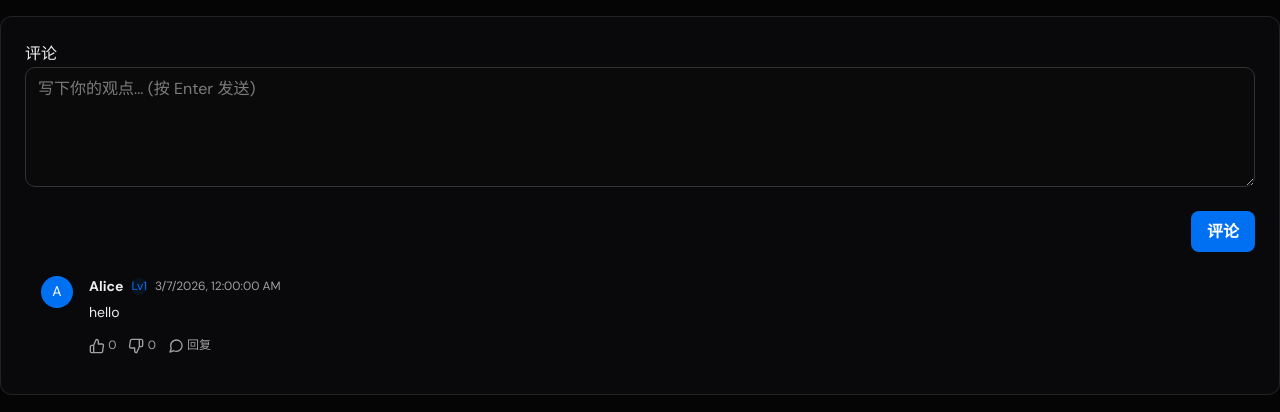
CommentSection › prefixes the textarea when replying to a comment
The image size is (1280, 412).
Click the button "回复". click: (189, 346)
box: [168,337,211,354]
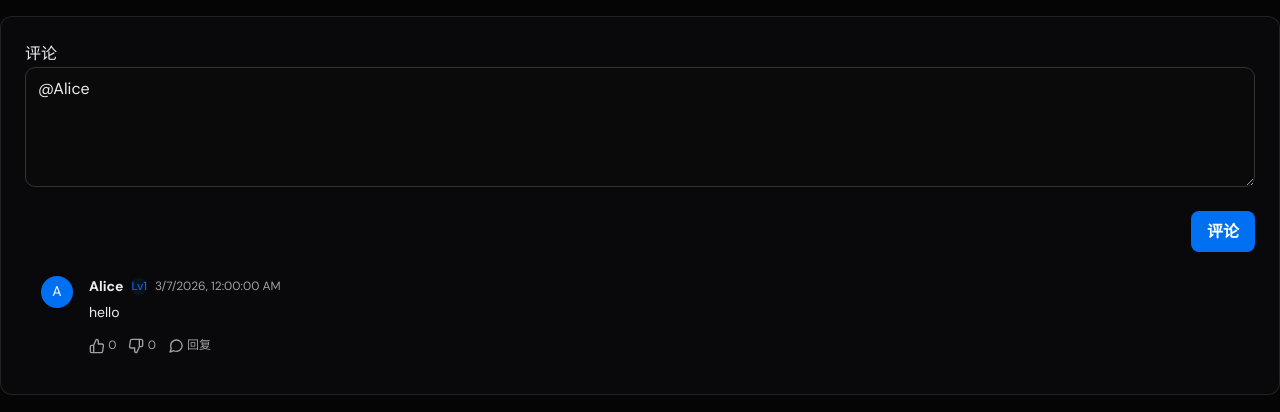
Expected: the text box with placeholder "回复 @Alice" holds "@Alice ", [25,67,1255,187]
